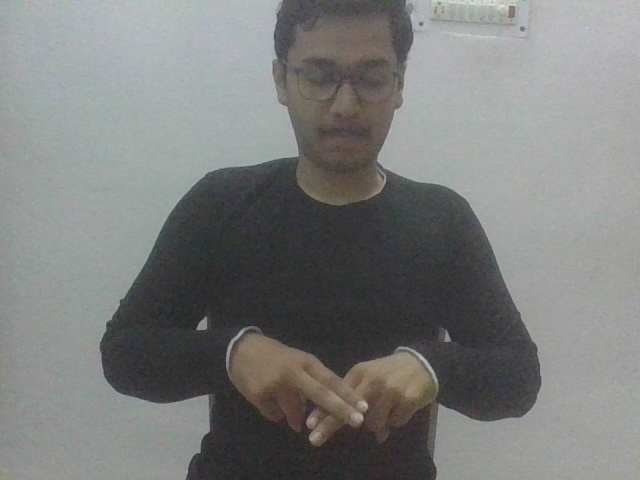F: (222, 323, 443, 450)
